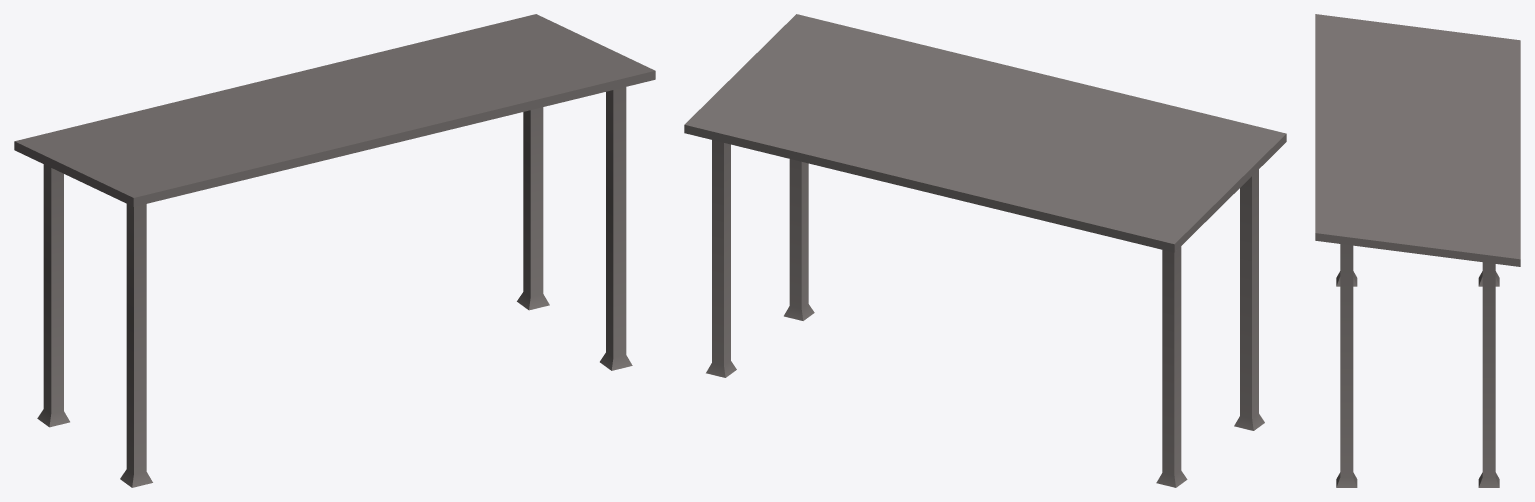
File: SM_Roofing_03.FBX
The picture shows the model from 3 angles, left to right: view 1: azimuth 30°, elevation 25°; view 2: azimuth 150°, elevation 25°; view 3: azimuth 270°, elevation 25°; orthographic projection. The views are drawn at different scales.
Parts seen in each view (by area): view 1: SM_Roofing_03; view 2: SM_Roofing_03; view 3: SM_Roofing_03.
Part boxes in pixels (x1,y1,x2,y2): SM_Roofing_03: (14, 14, 655, 487); SM_Roofing_03: (684, 14, 1286, 487); SM_Roofing_03: (1315, 14, 1520, 487).
Size of the model in its own units: 494 by 196 by 273.
